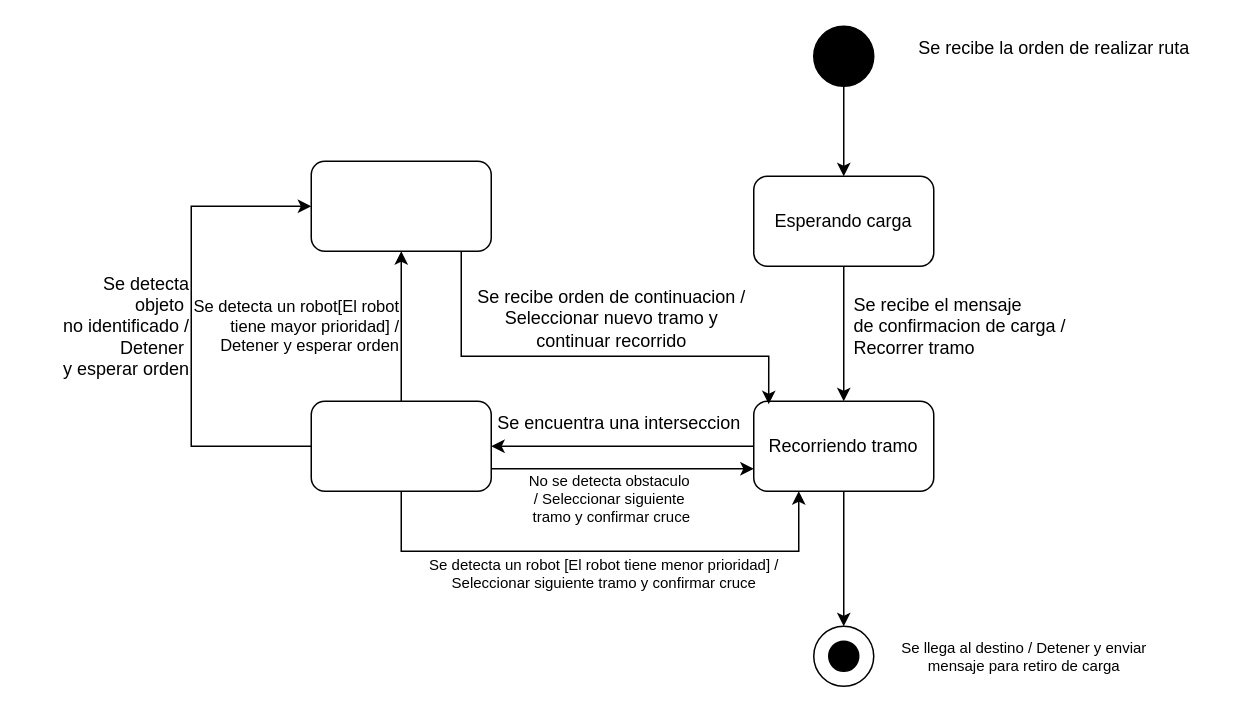
The diagram is 1236 pixels wide and 713 high, and some of its shapes have lost their labels. Each missing label, with the centre of its shape:
Crusando interseccion: the point at 400,445
Detenido: the point at 400,205
